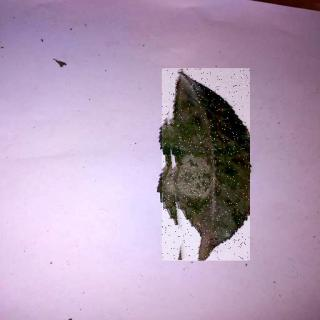Anthracnose: (163, 69, 251, 262)
